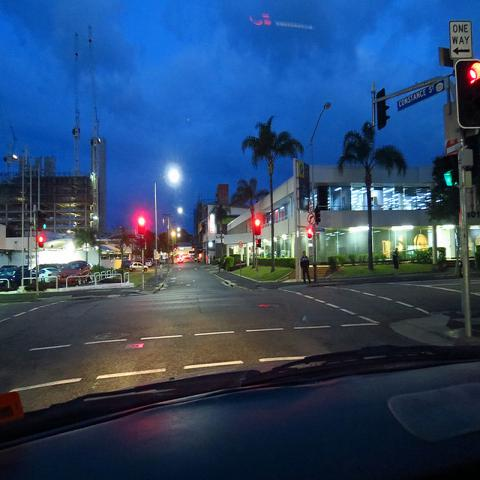car: (58, 261, 93, 288), (9, 264, 37, 289), (0, 264, 19, 287), (38, 267, 62, 283), (130, 262, 148, 272), (60, 264, 68, 270)
